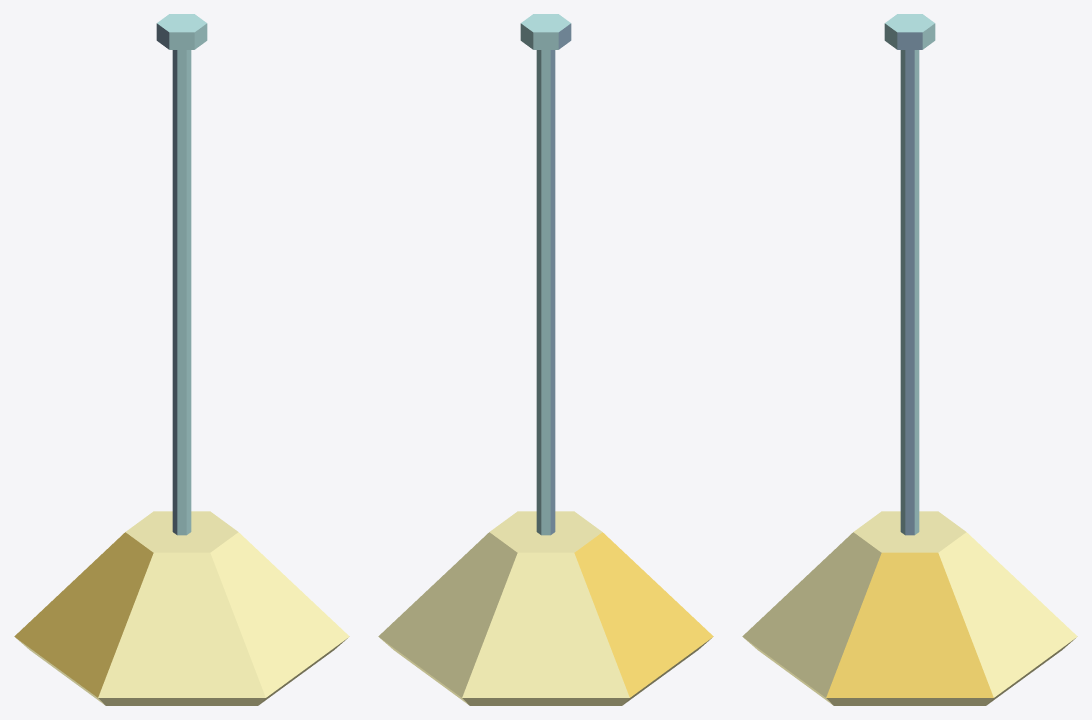
File: Hanging Lamp v2.fbx
3 renders of one model, left to right at view 1: azimuth 30°, elevation 25°; view 2: azimuth 150°, elevation 25°; view 3: azimuth 270°, elevation 25°, orthographic.
Visible parts, largest first — view 1: Hanging Lamp v2; view 2: Hanging Lamp v2; view 3: Hanging Lamp v2.
Boxes of the visible parts, x1=… form: Hanging Lamp v2: x1=14, y1=14, x2=349, y2=705; Hanging Lamp v2: x1=378, y1=14, x2=713, y2=705; Hanging Lamp v2: x1=742, y1=14, x2=1077, y2=705.
Size of the model in its own units: 79.7 by 190 by 92.03.
